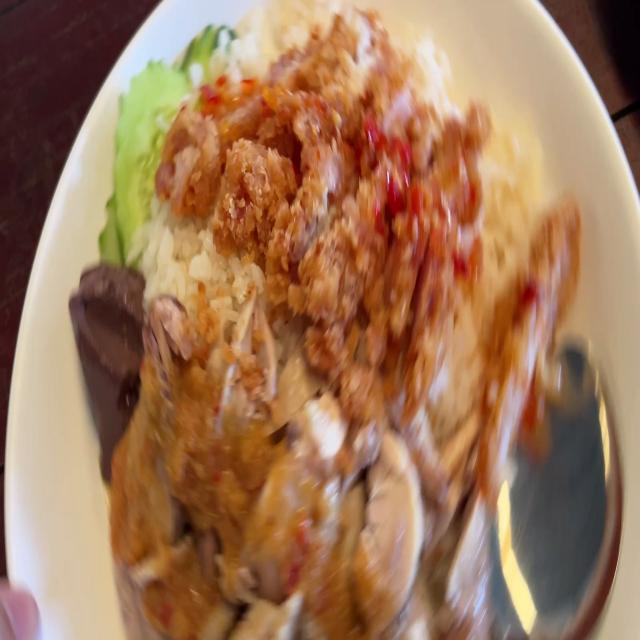boiled_chicken: (126, 313, 381, 640)
boiled_chicken_blood_jelly: (70, 256, 137, 476)
chicken_rice: (82, 0, 552, 640)
cucumber: (89, 22, 202, 254)
fried_chicken: (181, 29, 468, 380), (471, 205, 593, 478)
